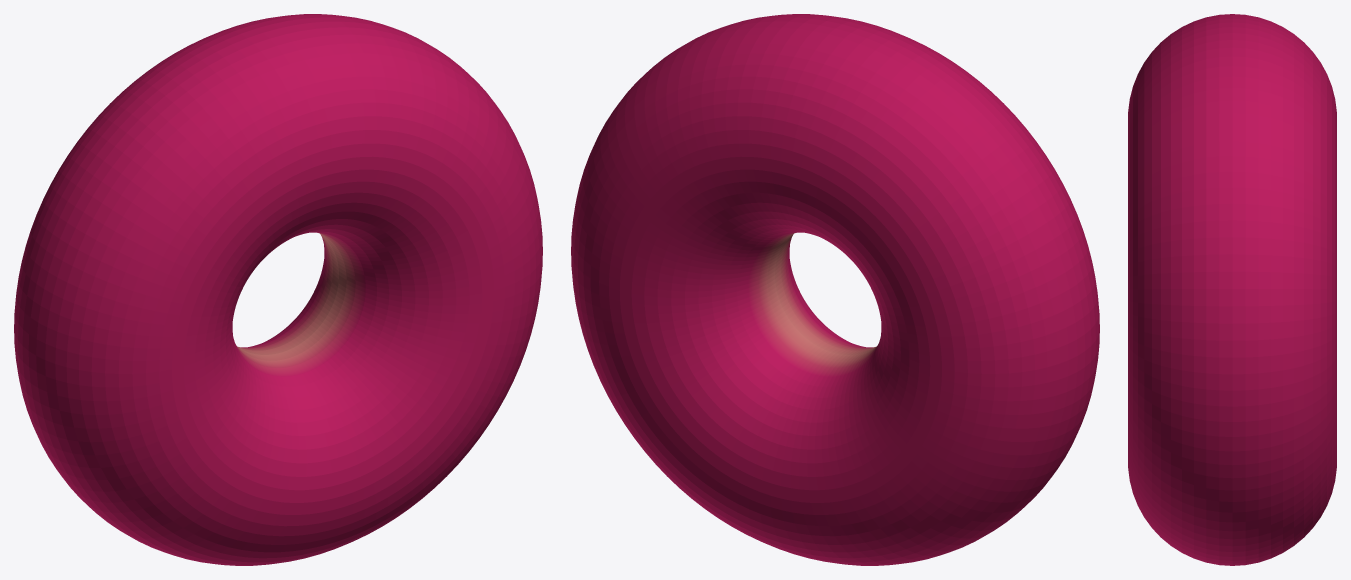
3 views of the same model, side by side, from view 1: azimuth 30°, elevation 25°; view 2: azimuth 150°, elevation 25°; view 3: azimuth 270°, elevation 25° (orthographic). The views are drawn at different scales.
Parts seen in each view (by area): view 1: world; view 2: world; view 3: world.
Boxes of the visible parts, x1,y1,x2,y2 form: world: (14, 14, 542, 565); world: (571, 14, 1099, 565); world: (1128, 14, 1336, 565).
Size of the model in its own units: 21.47 by 21.47 by 8.12.
